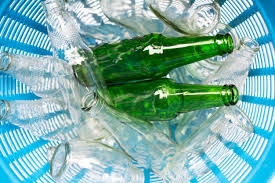glass: (70, 26, 237, 86), (80, 92, 184, 175), (161, 104, 254, 183), (95, 75, 242, 122), (2, 95, 99, 143), (47, 137, 146, 183), (1, 48, 92, 98), (201, 35, 263, 94)
